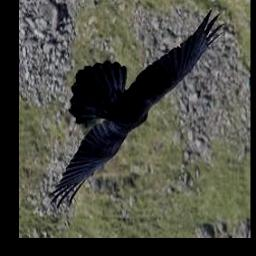Crow: (49, 9, 225, 208)
